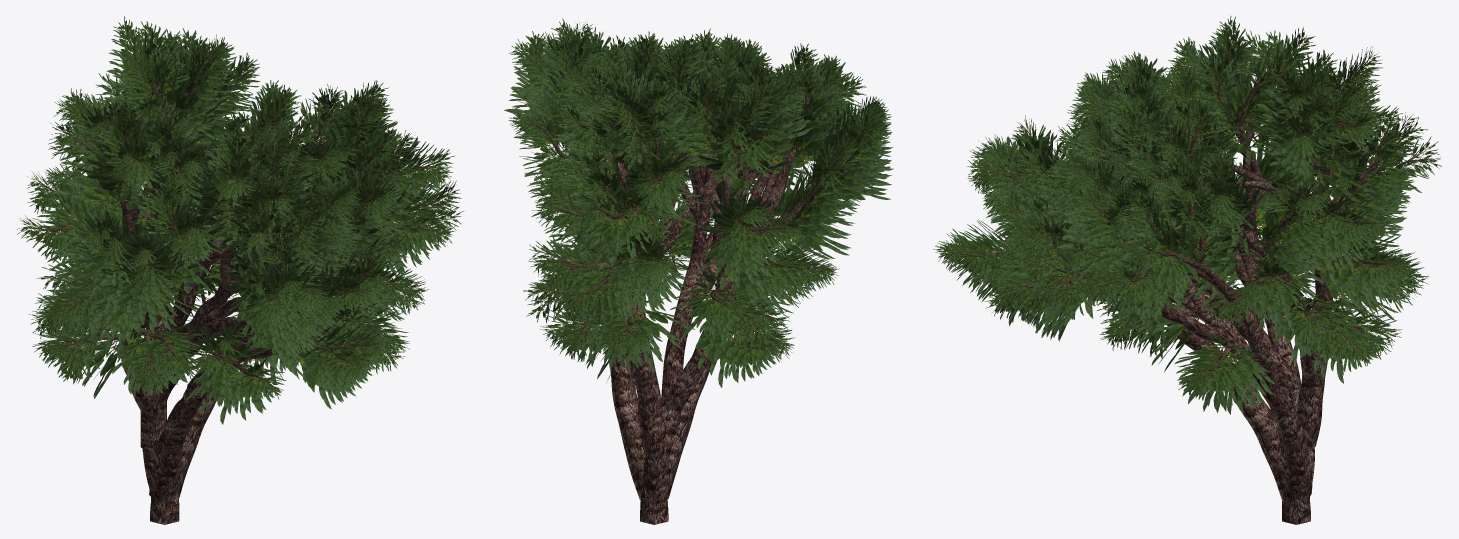
Rendered from Trees_3400_2.fbx.
3 views of the same model, side by side, from view 1: azimuth 30°, elevation 25°; view 2: azimuth 150°, elevation 25°; view 3: azimuth 270°, elevation 25° (orthographic). The views are drawn at different scales.
Parts seen in each view (by area): view 1: leaves.001, tree.001; view 2: leaves.001, tree.001; view 3: leaves.001, tree.001.
Boxes of the visible parts, x1,y1,x2,y2 form: leaves.001: (17, 16, 463, 424); tree.001: (30, 31, 451, 524); leaves.001: (504, 18, 893, 387); tree.001: (522, 30, 879, 524); leaves.001: (933, 15, 1441, 414); tree.001: (960, 36, 1429, 524).
Bounding box in the file's own units: 724 × 843 × 829.
